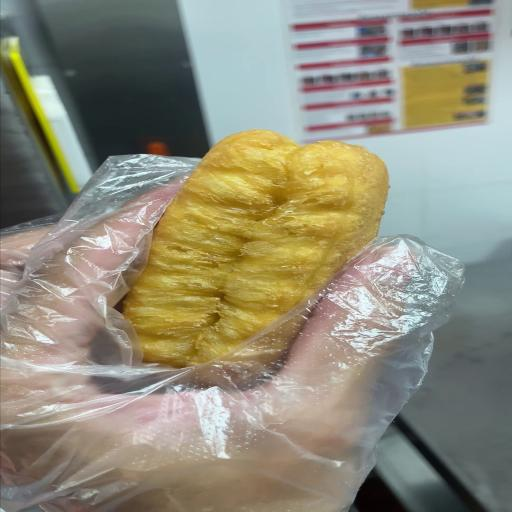brand_golden_good: (124, 131, 388, 365)
